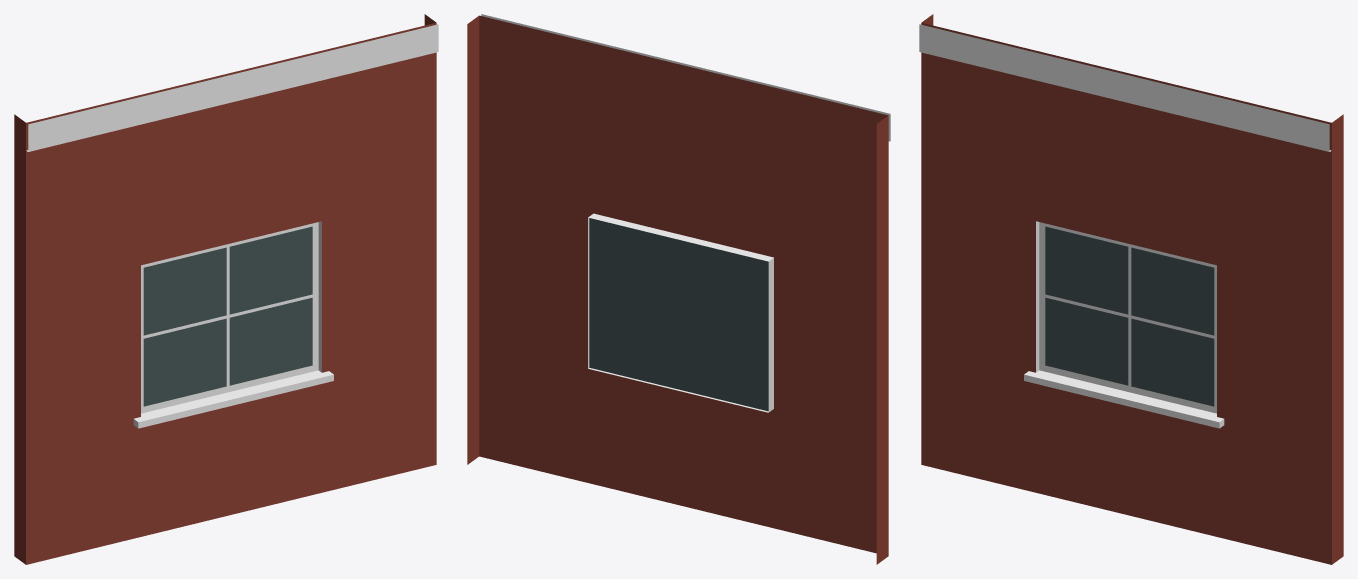
Rendered from mid-stair.fbx.
3 views of the same model, side by side, from view 1: azimuth 30°, elevation 25°; view 2: azimuth 150°, elevation 25°; view 3: azimuth 330°, elevation 25° (orthographic).
Visible parts, largest first — view 1: a2000/200/mid-stair; view 2: a2000/200/mid-stair; view 3: a2000/200/mid-stair.
Part boxes in pixels (left/top/right/bottom): a2000/200/mid-stair: left=14, top=14, right=438, bottom=564; a2000/200/mid-stair: left=467, top=14, right=890, bottom=564; a2000/200/mid-stair: left=919, top=14, right=1343, bottom=564.
Size of the model in its own units: 3.4 by 3.5 by 0.24.
